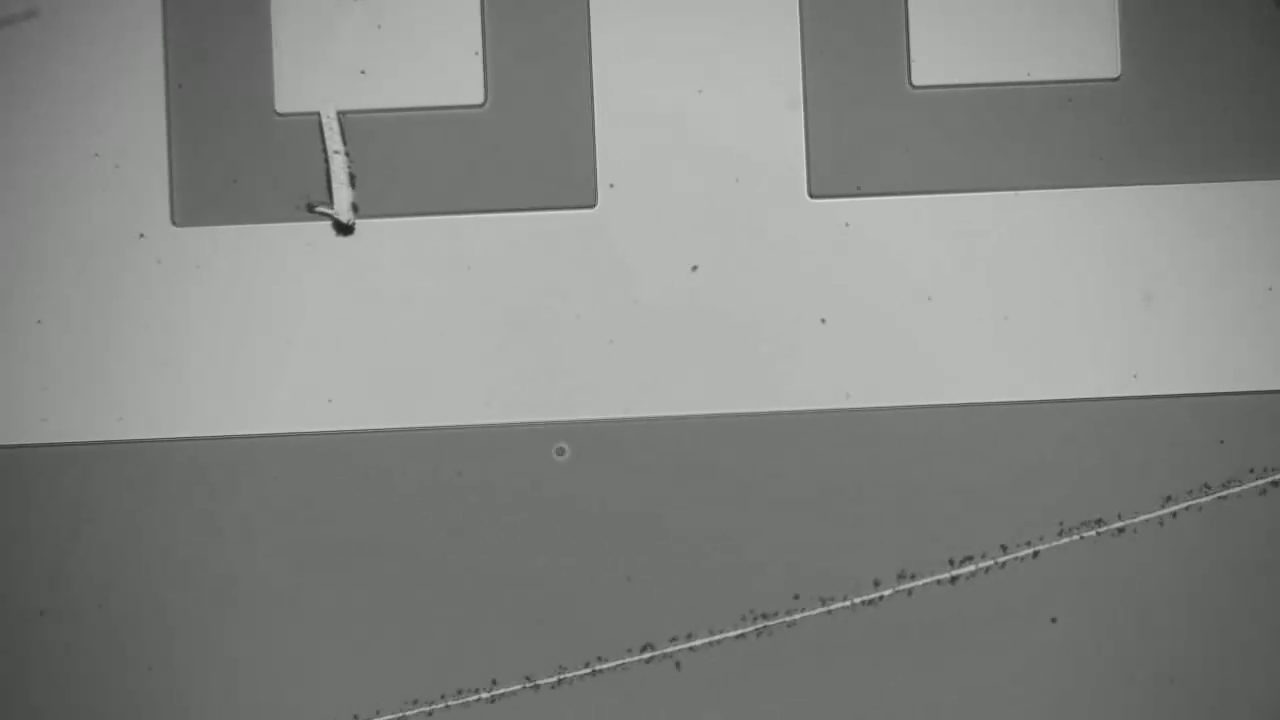scratch: (365, 477, 1275, 720)
short_cricuit: (290, 81, 388, 273)
